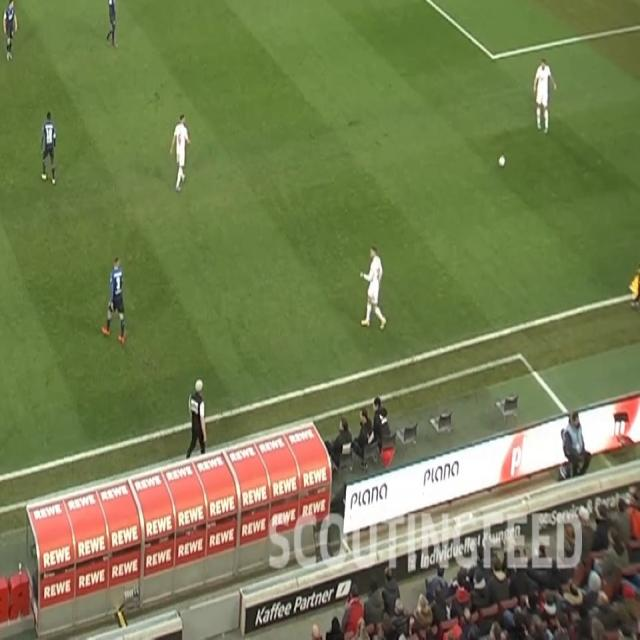ball: (496, 154, 506, 169)
